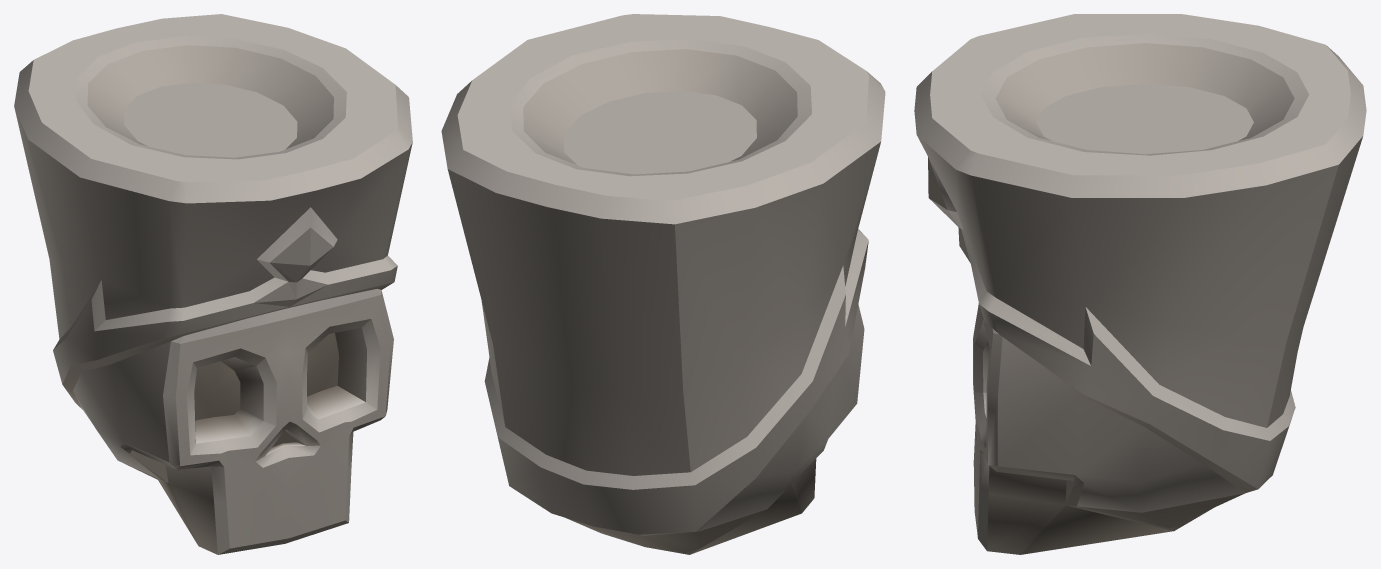
The model's file is m_deco_skullStatueB.FBX.
The picture shows the model from 3 angles, left to right: view 1: azimuth 30°, elevation 25°; view 2: azimuth 150°, elevation 25°; view 3: azimuth 270°, elevation 25°; orthographic projection. The views are drawn at different scales.
Parts seen in each view (by area): view 1: m_deco_skullStatueB; view 2: m_deco_skullStatueB; view 3: m_deco_skullStatueB.
Part boxes in pixels (bbox=[...]): m_deco_skullStatueB: bbox=[14, 14, 412, 554]; m_deco_skullStatueB: bbox=[441, 14, 885, 554]; m_deco_skullStatueB: bbox=[914, 14, 1366, 554].
Size of the model in its own units: 2.67 by 3.07 by 2.92.
